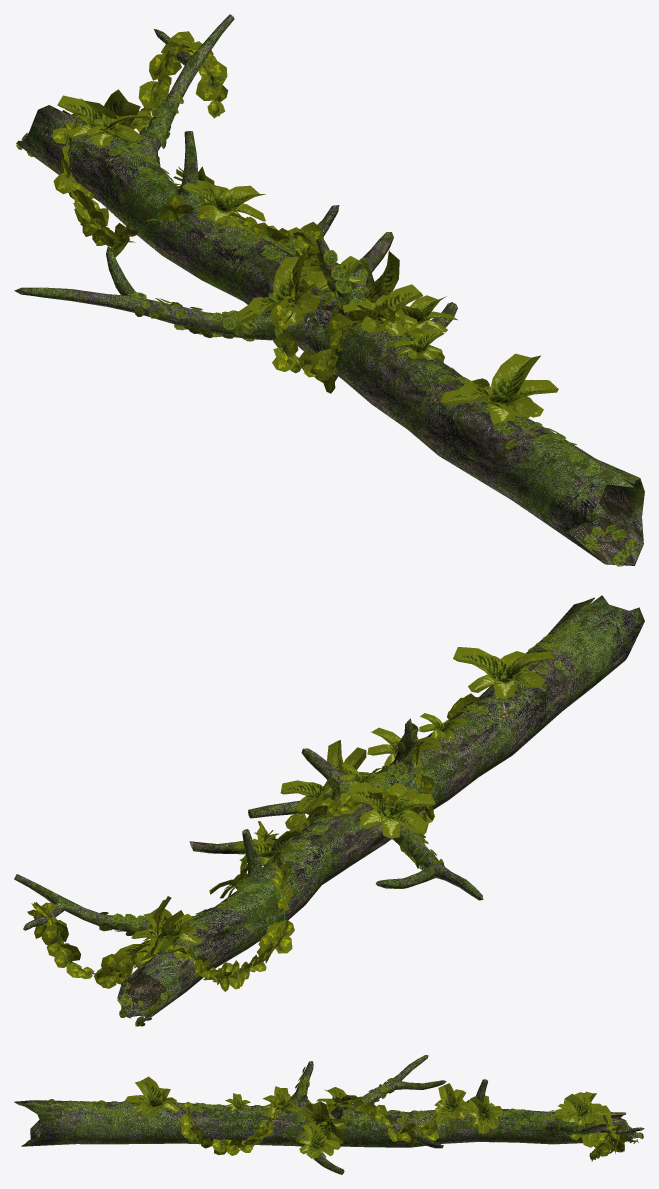
3 views of the same model, one above another, from view 1: azimuth 30°, elevation 25°; view 2: azimuth 150°, elevation 25°; view 3: azimuth 270°, elevation 25° (orthographic). The views are drawn at different scales.
Visible parts, largest first — view 1: group_0, plants_a (×2); view 2: group_0, plants_a (×3); view 3: group_0, plants_a (×6), plants (×2), plants_a_1.
Part boxes in pixels (x1,y1,x2,y2): group_0: (14, 14, 644, 565); plants_a (×2): (273, 252, 540, 400); group_0: (14, 595, 644, 1022); plants_a (×3): (347, 647, 502, 816); group_0: (14, 1055, 644, 1174); plants_a (×6): (135, 1076, 611, 1128); plants (×2): (312, 1101, 345, 1144); plants_a_1: (303, 1121, 322, 1145).
Size of the model in its own units: 179 by 472 by 69.46.
3 materials, 2 textured.
